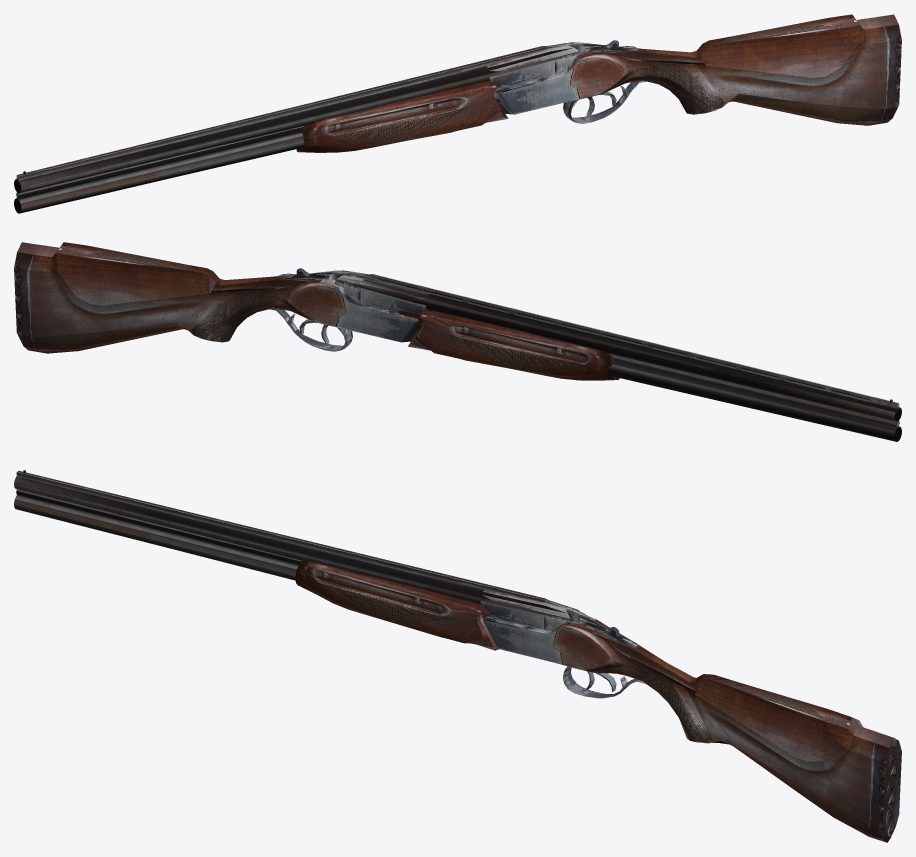
Rendered from w_toz34.obj.
The picture shows the model from 3 angles, top to bottom: view 1: azimuth 30°, elevation 25°; view 2: azimuth 150°, elevation 25°; view 3: azimuth 330°, elevation 25°; orthographic projection.
Visible parts, largest first — view 1: Toz34; view 2: Toz34; view 3: Toz34.
Boxes of the visible parts, box(x1,y1,x2,y2) form: Toz34: box(14, 14, 901, 213); Toz34: box(14, 242, 901, 441); Toz34: box(14, 470, 901, 842).
Size of the model in its own units: 15.8 by 2.78 by 0.5654.
